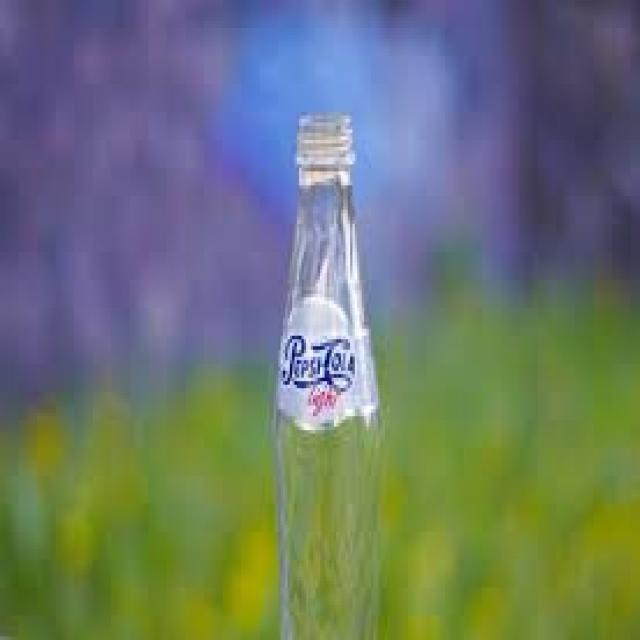glass-bottle: (248, 100, 406, 640)
